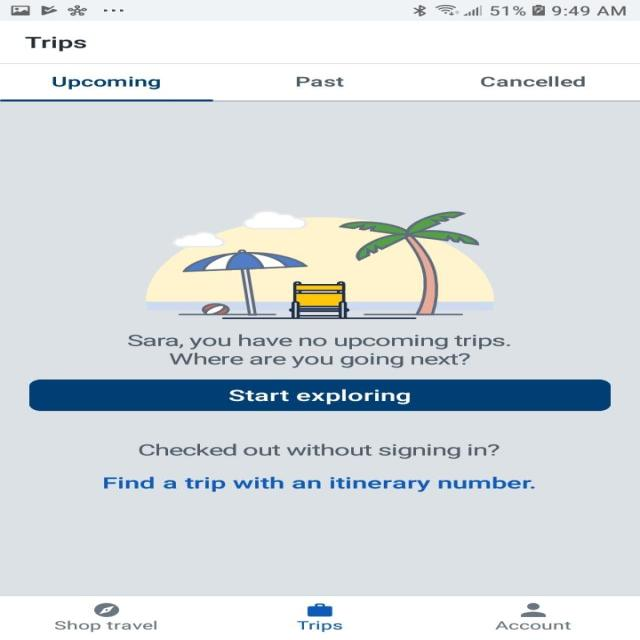Icon: (93, 602, 119, 617), (520, 602, 546, 617), (306, 603, 332, 616)
Image: (144, 210, 494, 320)
Text: (127, 333, 510, 368), (103, 476, 534, 492), (138, 443, 500, 459), (51, 76, 160, 89), (55, 620, 156, 632), (478, 75, 585, 86), (24, 36, 86, 52), (494, 620, 571, 630), (293, 74, 345, 87), (296, 620, 342, 632)
TextButton: (29, 379, 611, 411)
